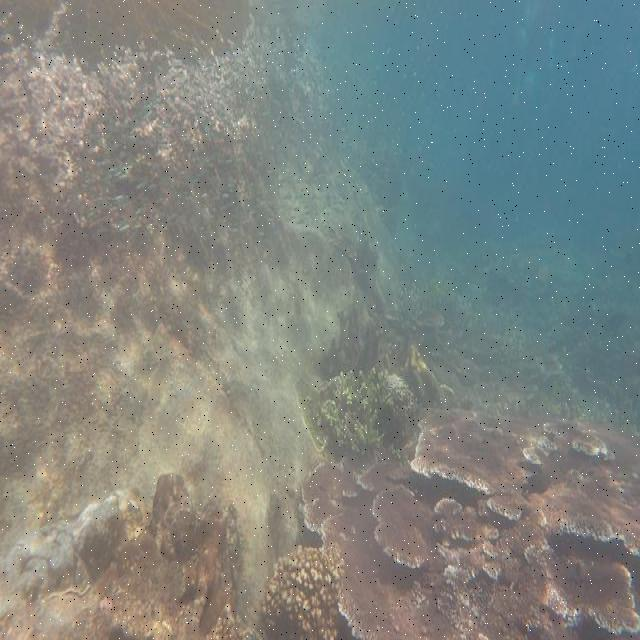reefs: (301, 405, 639, 638), (262, 546, 343, 638)
sea-floor: (2, 2, 410, 638)
